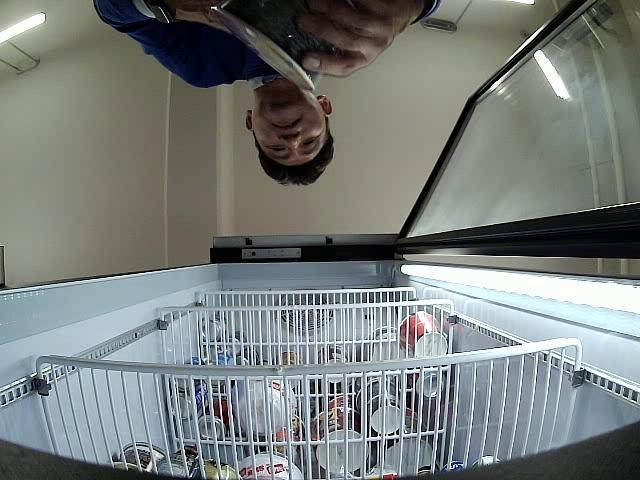07_buldak_L: (212, 0, 356, 90)
